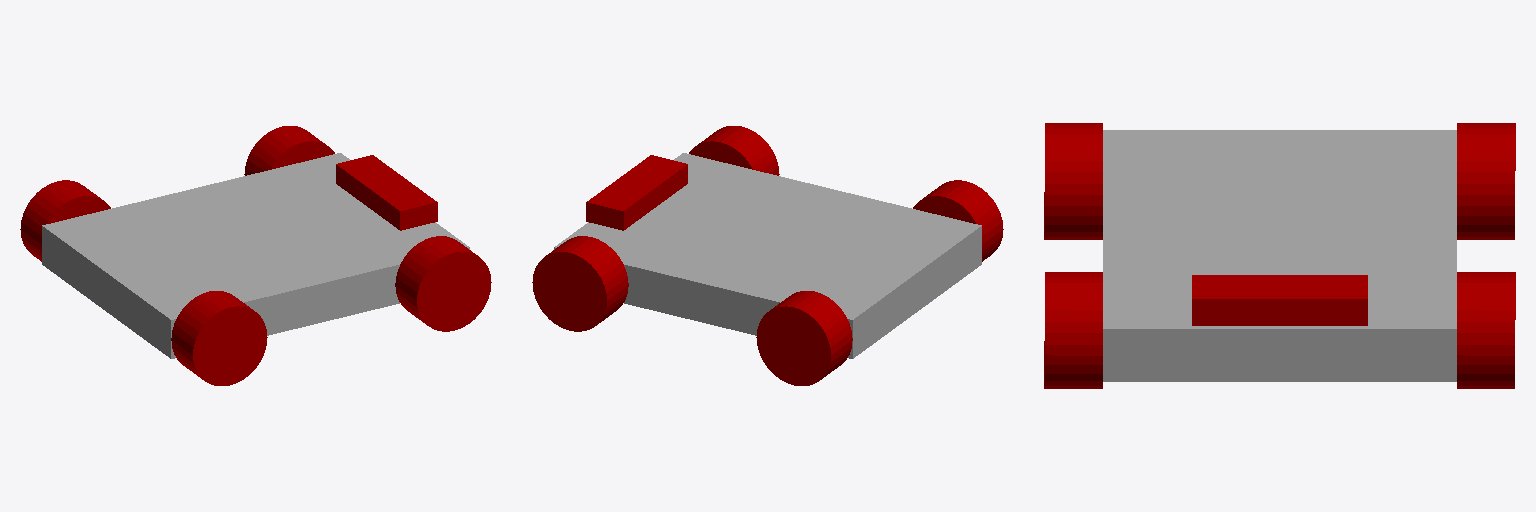
The robot description file, URDF, robot "rob1":
<?xml version="1.0"?>
<robot name="rob1">

    <!-- world -->
    <link name="world_link"/>

    <!-- base -->
    <link name="base_link">
        <visual>
            <geometry>
                <box size="2.0 1.5 0.25" />
            </geometry>
            <material name="LightGrey">
                <color rgba="0.7 0.7 0.7 1.0"/>
            </material>
        </visual>
    </link>
    <joint name="base_joint" type="fixed">
        <parent link="world_link"/>
        <child link="base_link"/>
        <origin xyz="0 0 0.25" rpy="0 0 0"/>
        <axis xyz="0 0 0"/>
    </joint>

    <!-- front_right_wheel -->
    <link name="front_right_wheel_link">
        <visual>
            <geometry>
                <cylinder radius="0.25" length="0.25"/>
            </geometry>
            <material name="Lightred">
                <color rgba="0.7 0.0 0.0 1.0"/>
            </material>
        </visual>
    </link>
    <joint name="front_right_wheel_joint" type="continuous">
        <parent link="base_link"/>
        <child link="front_right_wheel_link"/>
        <origin xyz="0.75 -0.875 0" rpy="1.57 0 0"/>
        <axis xyz="0 0 -1"/>
    </joint>
    
    <!-- front_left_wheel -->
    <link name="front_left_wheel_link">
        <visual>
            <geometry>
                <cylinder radius="0.25" length="0.25"/>
            </geometry>
            <material name="Lightred">
                <color rgba="0.7 0.0 0.0 1.0"/>
            </material>
        </visual>
    </link>
    <joint name="front_left_wheel_joint" type="continuous">
        <parent link="base_link"/>
        <child link="front_left_wheel_link"/>
        <origin xyz="0.75 0.875 0" rpy="1.57 0 0"/>
        <axis xyz="0 0 -1"/>
    </joint>
    
    <!-- back_right_wheel -->
    <link name="back_right_wheel_link">
        <visual>
            <geometry>
                <cylinder radius="0.25" length="0.25"/>
            </geometry>
            <material name="Lightred">
                <color rgba="0.7 0.0 0.0 1.0"/>
            </material>
        </visual>
    </link>
    <joint name="back_right_wheel_joint" type="continuous">
        <parent link="base_link"/>
        <child link="back_right_wheel_link"/>
        <origin xyz="-0.75 -0.875 0" rpy="1.57 0 0"/>
        <axis xyz="0 0 -1"/>
    </joint>
    
    <!-- back_left_wheel -->
    <link name="back_left_wheel_link">
        <visual>
            <geometry>
                <cylinder radius="0.25" length="0.25"/>
            </geometry>
            <material name="Lightred">
                <color rgba="0.7 0.0 0.0 1.0"/>
            </material>
        </visual>
    </link>
    <joint name="back_left_wheel_joint" type="continuous">
        <parent link="base_link"/>
        <child link="back_left_wheel_link"/>
        <origin xyz="-0.75 0.875 0" rpy="1.57 0 0"/>
        <axis xyz="0 0 -1"/>
    </joint>

    <!-- head -->
    <link name="head_link">
        <visual>
            <geometry>
                <box size="0.25 0.75 0.125" />
            </geometry>
            <material name="Lightred">
                <color rgba="0.7 0.0 0.0 1.0"/>
            </material>
        </visual>
    </link>
    <joint name="head_joint" type="fixed">
        <parent link="base_link"/>
        <child link="head_link"/>
        <origin xyz="0.875 0 0.2" rpy="0 0 0"/>
        <axis xyz="0 0 0"/>
    </joint>
</robot>

--- Render facts (derived) ---
3 views of the same robot in one strip: view 1: azimuth 30°, elevation 25°; view 2: azimuth 150°, elevation 25°; view 3: azimuth 270°, elevation 25° (orthographic).
Model rob1 with 7 links and 6 joints (4 continuous, 2 fixed), rooted at world_link, posed every joint at zero.
Links seen in each view (by area): view 1: base_link, front_right_wheel_link, back_right_wheel_link, head_link, back_left_wheel_link, front_left_wheel_link; view 2: base_link, front_left_wheel_link, back_left_wheel_link, head_link, back_right_wheel_link, front_right_wheel_link; view 3: base_link, head_link, front_right_wheel_link, front_left_wheel_link, back_right_wheel_link, back_left_wheel_link.
Boxes of the visible links, box(x1,y1,x2,y2) form: base_link: box(42, 153, 469, 358); front_right_wheel_link: box(395, 236, 491, 331); back_right_wheel_link: box(171, 291, 267, 385); head_link: box(336, 155, 437, 230); back_left_wheel_link: box(20, 180, 110, 261); front_left_wheel_link: box(244, 126, 334, 175); base_link: box(554, 153, 981, 358); front_left_wheel_link: box(532, 236, 628, 331); back_left_wheel_link: box(756, 291, 852, 385); head_link: box(586, 155, 687, 230); back_right_wheel_link: box(913, 180, 1003, 261); front_right_wheel_link: box(689, 126, 779, 175); base_link: box(1103, 130, 1456, 381); head_link: box(1192, 275, 1367, 325); front_right_wheel_link: box(1044, 272, 1102, 388); front_left_wheel_link: box(1457, 272, 1515, 388); back_right_wheel_link: box(1044, 123, 1102, 239); back_left_wheel_link: box(1457, 123, 1515, 239).
Bounding box of the posed robot: 2 × 2 × 0.5126 m (x, y, z).
Geometry: primitives only (box / cylinder / sphere), no mesh files.
